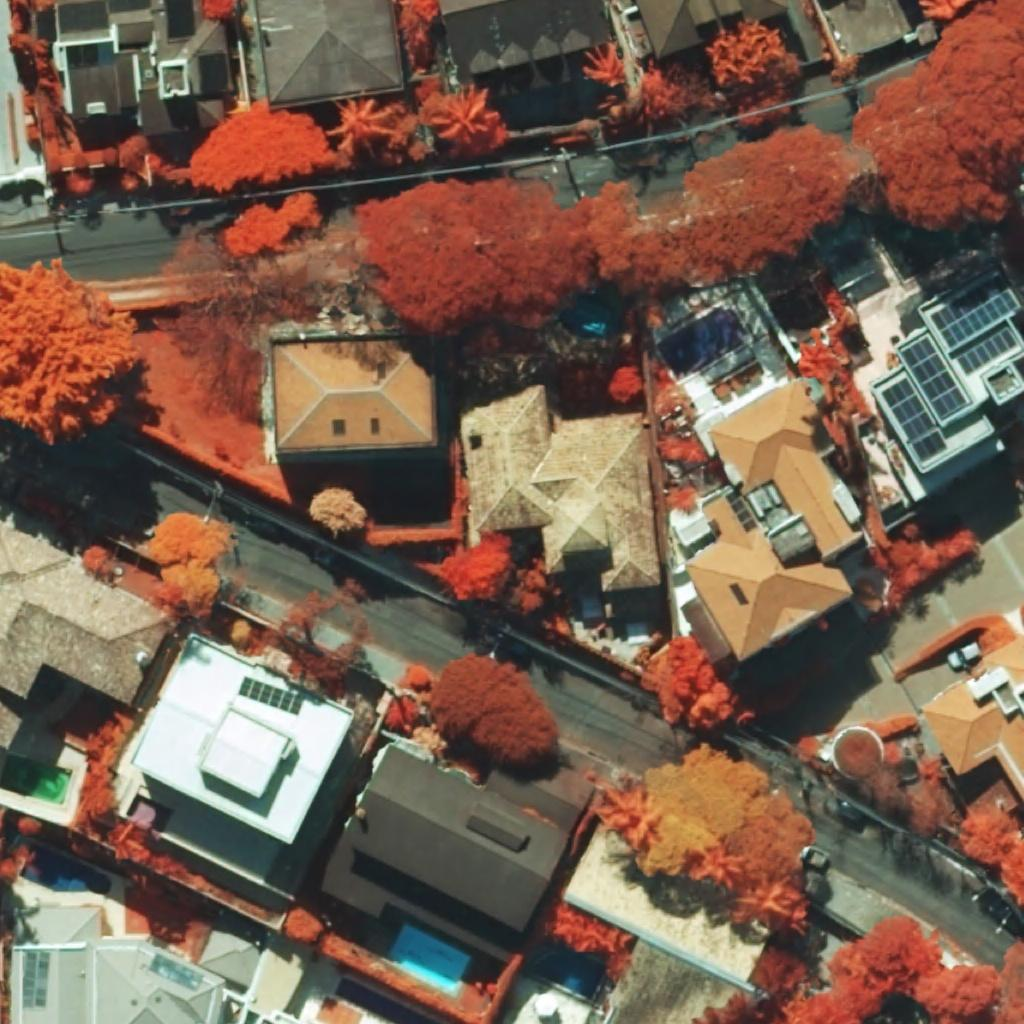pool: (656, 306, 743, 382), (386, 923, 470, 993), (20, 843, 111, 895), (559, 284, 631, 340), (530, 946, 606, 999), (0, 753, 73, 805)
